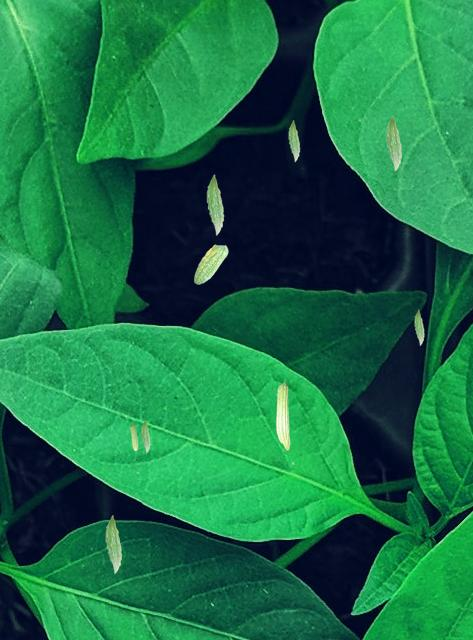ampalaya: (193, 244, 228, 285), (206, 174, 224, 235), (275, 380, 290, 450), (105, 515, 122, 574), (386, 115, 402, 171), (288, 120, 300, 162), (414, 309, 424, 346), (140, 419, 150, 453), (129, 424, 138, 451)
